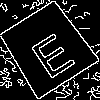E: (23, 23, 78, 81)
